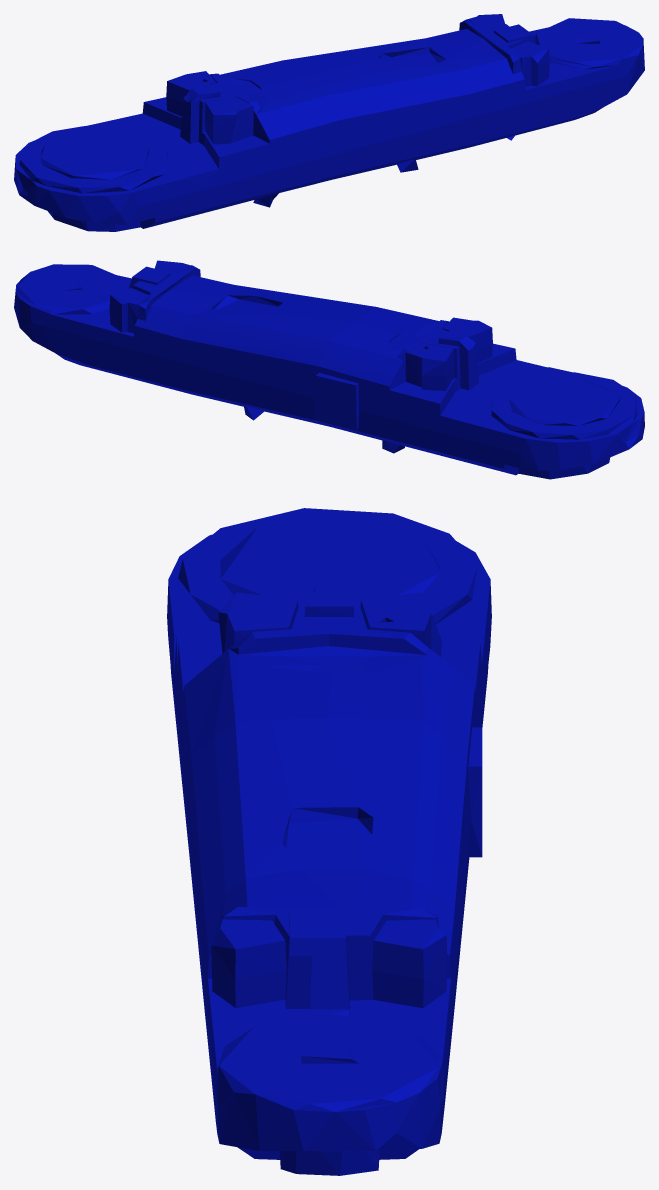
File: ABBIRB2600Link2.dae
The picture shows the model from 3 angles, top to bottom: view 1: azimuth 30°, elevation 25°; view 2: azimuth 150°, elevation 25°; view 3: azimuth 270°, elevation 25°; orthographic projection. The views are drawn at different scales.
Parts seen in each view (by area): view 1: link2; view 2: link2; view 3: link2.
Part boxes in pixels (x1,y1,x2,y2): link2: (14,14,644,231); link2: (14,260,644,479); link2: (167,508,491,1175).
Size of the model in its own units: 0.8692 by 0.1998 by 0.1483.
